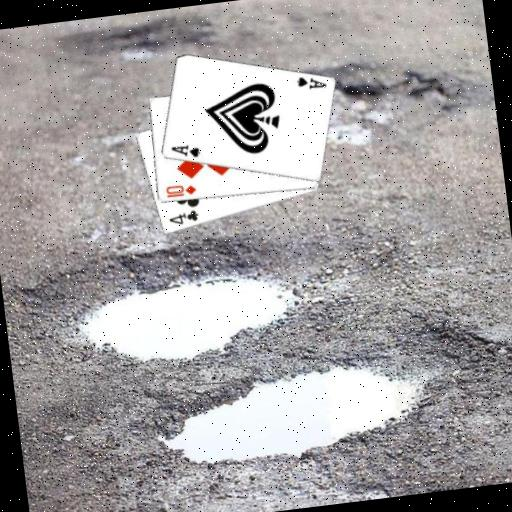10D: (162, 181, 198, 201)
4C: (164, 207, 200, 228)
AS: (293, 71, 328, 93), (167, 141, 201, 163)
